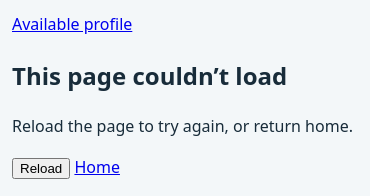
Test: route chunk recovery › resets a failed boundary on a new location key for the same route pattern
The width and height of the screenshot is (370, 196).
Expected: the message "This page couldn’t load Reload the page to try again, or return home." is shown, [12,59,353,137]
Click the link "Available profile".
click(72, 24)  # box [12,13,132,35]
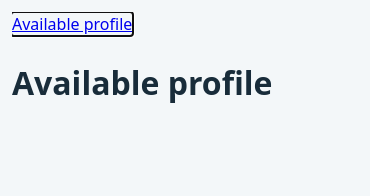
Expected: the heading "Available profile" is shown, [12,61,272,104]
Expected: the message "This page couldn’t load Reload the page to try again, or return home." is gone
